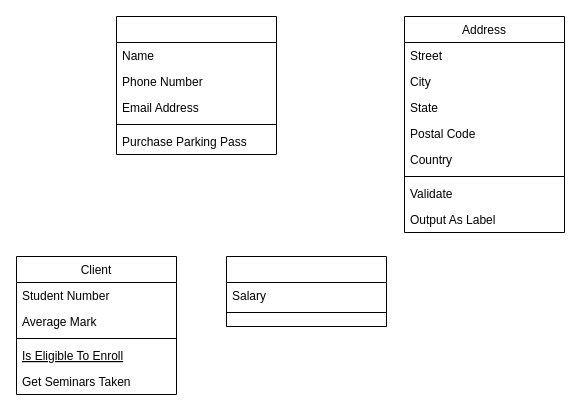
The diagram is 581 pixels wide and 411 high, and some of its shapes have lost their labels. The box of each missing label's shape, as (x1, y1, x2, y2) in pixels:
Chambre: (226, 256, 386, 326)
Hotel: (116, 16, 276, 154)
